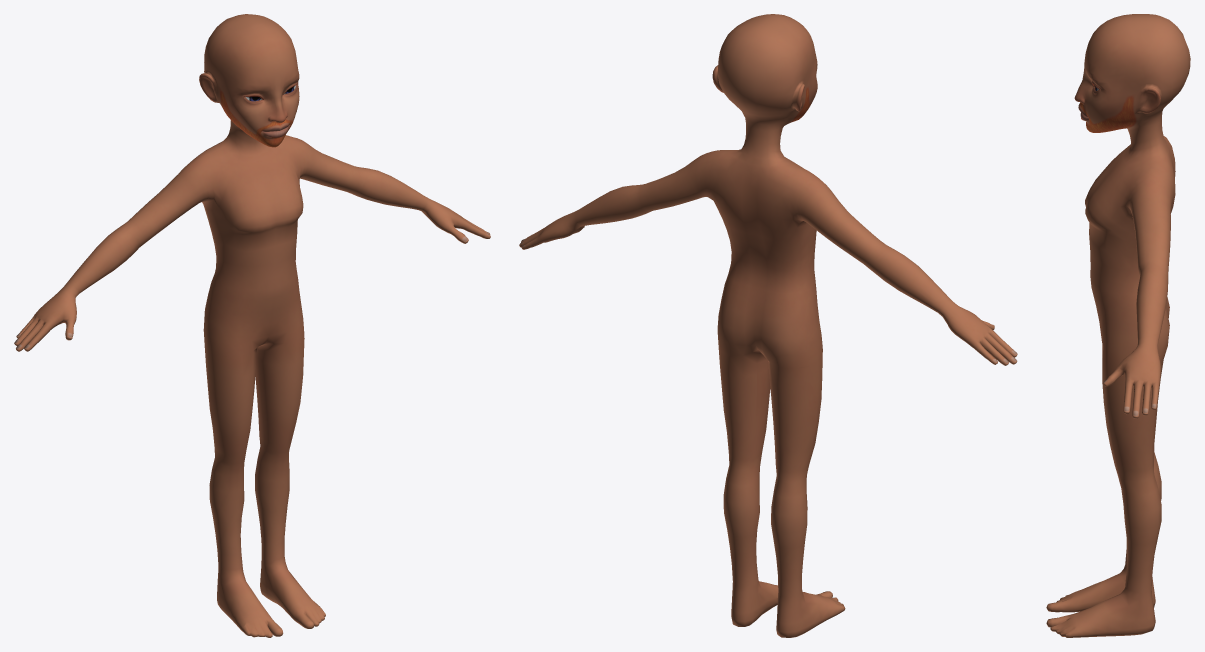
File: frame_0099.glb
3 renders of one model, left to right at view 1: azimuth 30°, elevation 25°; view 2: azimuth 150°, elevation 25°; view 3: azimuth 270°, elevation 25°, orthographic. The views are drawn at different scales.
Visible parts, largest first — view 1: frame_0099_head_geo; view 2: frame_0099_head_geo; view 3: frame_0099_head_geo.
Part boxes in pixels (bbox=[...]): frame_0099_head_geo: bbox=[14, 14, 490, 637]; frame_0099_head_geo: bbox=[519, 14, 1017, 637]; frame_0099_head_geo: bbox=[1046, 14, 1190, 637].
Bounding box in the file's own units: 1.28 × 1.5 × 0.3253.
Materials: 3 (3 with a texture image).
